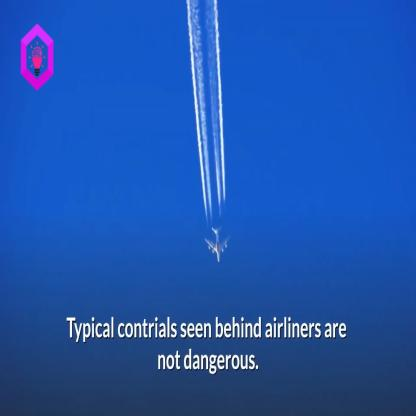plane: (201, 222, 234, 266)
